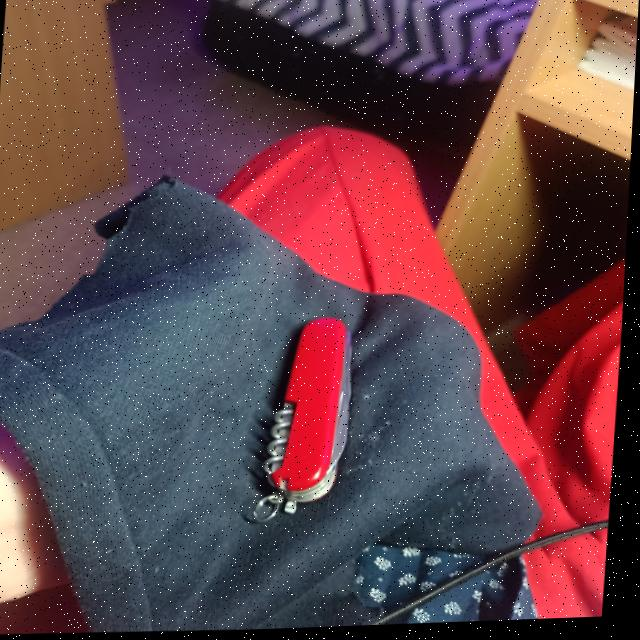knife victorinox: (274, 320, 355, 505)
